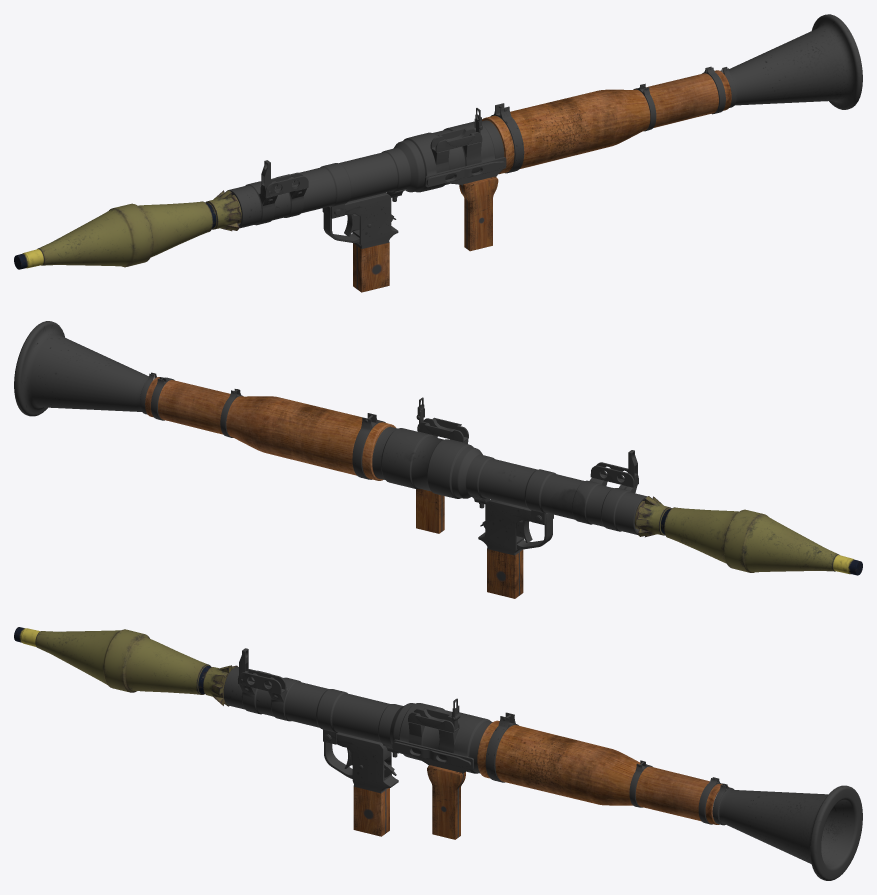
File: rpg-7.glb
3 renders of one model, top to bottom at view 1: azimuth 30°, elevation 25°; view 2: azimuth 150°, elevation 25°; view 3: azimuth 330°, elevation 25°, orthographic.
Parts seen in each view (by area): view 1: RPG_high, Ojiva_high, Mango delantero_high, Mango trasero_high, Sop Mango Trasero_high, Base Mira Trasera_high, Mira Delantera_high; view 2: RPG_high, Ojiva_high, Mango delantero_high, Mango trasero_high, Base Mira Trasera_high, Mira Delantera_high; view 3: RPG_high, Ojiva_high, Mango delantero_high, Mango trasero_high, Sop Mango Trasero_high, Mira Delantera_high, Base Mira Trasera_high.
Boxes of the visible parts, box(x1,y1,x2,y2) form: RPG_high: box(227, 14, 862, 228); Ojiva_high: box(14, 190, 241, 269); Mango delantero_high: box(323, 193, 398, 292); Mango trasero_high: box(445, 169, 502, 251); Sop Mango Trasero_high: box(425, 157, 506, 187); Base Mira Trasera_high: box(430, 128, 482, 152); Mira Delantera_high: box(260, 172, 308, 197); RPG_high: box(14, 321, 646, 534); Ojiva_high: box(634, 496, 862, 575); Mango delantero_high: box(478, 499, 552, 598); Mango trasero_high: box(416, 489, 444, 533); Base Mira Trasera_high: box(417, 417, 468, 442); Mira Delantera_high: box(590, 462, 638, 487); RPG_high: box(223, 667, 862, 880); Ojiva_high: box(14, 627, 237, 706); Mango delantero_high: box(336, 732, 398, 836); Mango trasero_high: box(412, 755, 469, 839); Sop Mango Trasero_high: box(392, 739, 473, 769); Mira Delantera_high: box(238, 669, 286, 694); Base Mira Trasera_high: box(408, 708, 459, 732).
Bounding box in the file's own units: 2.07 × 0.3901 × 0.2123.
1 material, 1 textured.
